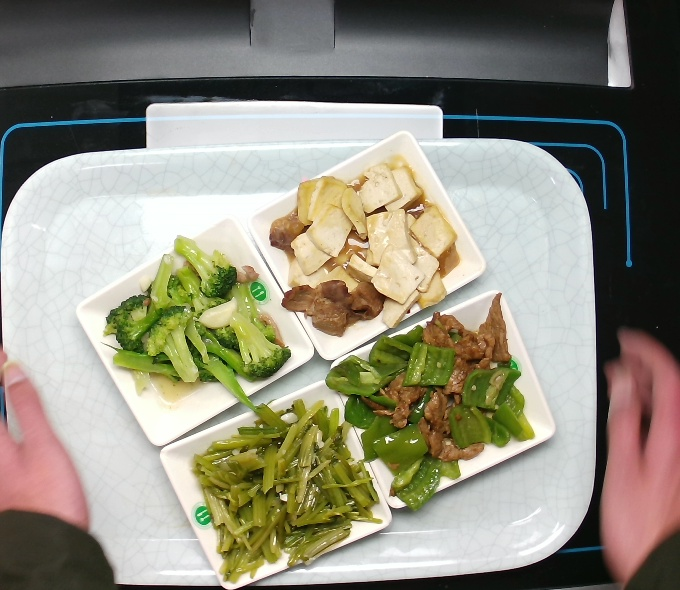wcq-DouFuRouPian: (269, 160, 491, 338)
wcq-QinCai: (194, 410, 374, 576)
wcq-QingJiaoChaoRou: (332, 300, 549, 513)
wcq-XiLanHua: (106, 233, 288, 406)
